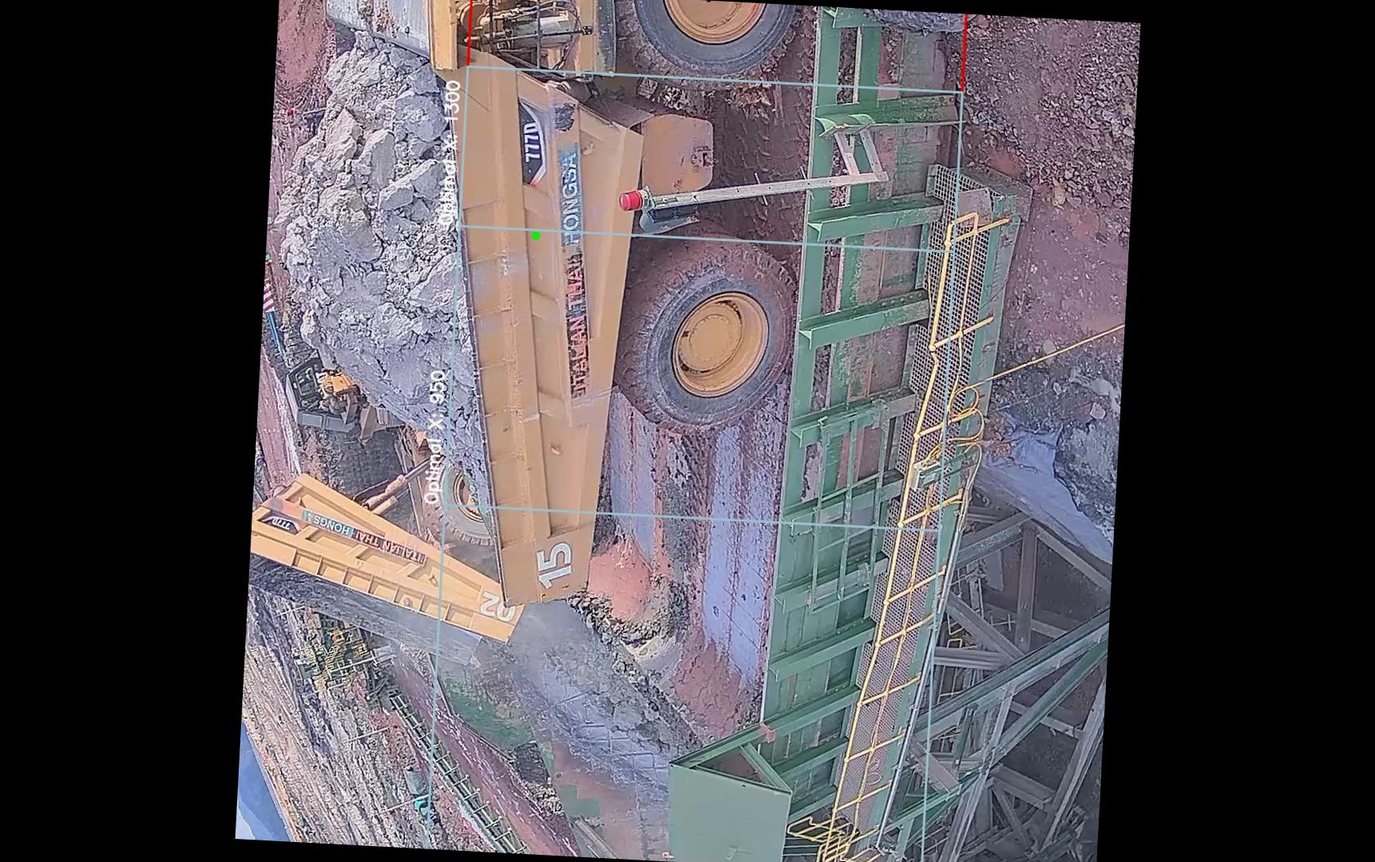company: (540, 139, 604, 409)
full_load: (273, 71, 487, 384)
mining_truck: (252, 0, 827, 629)
tail_number: (524, 533, 584, 597)
truck_size: (506, 94, 551, 192)
